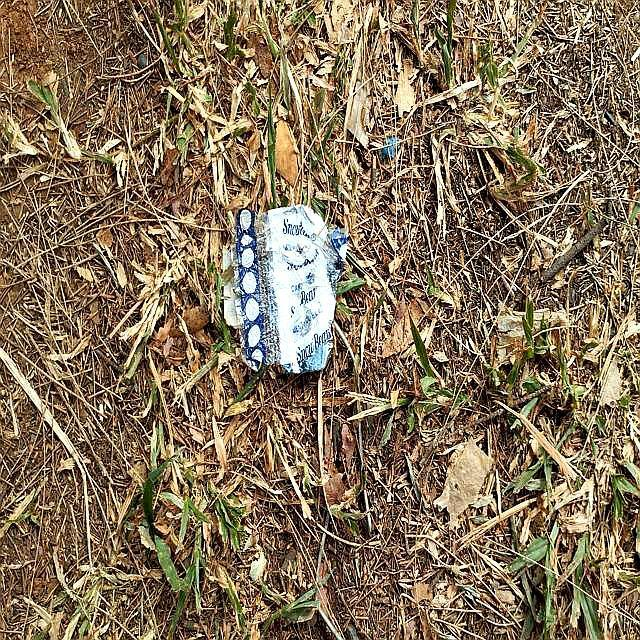Non-biodegradable: (229, 203, 349, 377)
